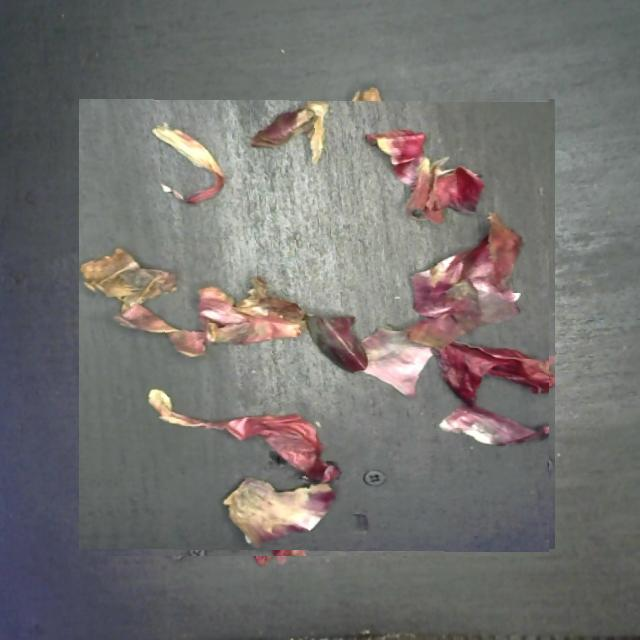biodegradable: (86, 92, 549, 556)
